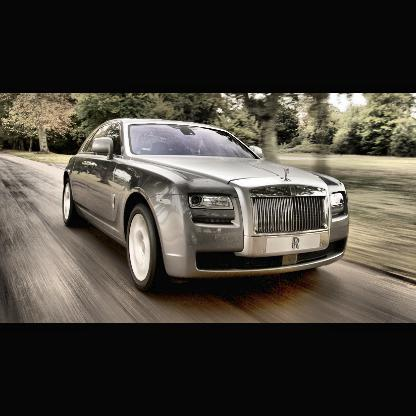Rolls-Royce Ghost Sedan 2012: (62, 117, 352, 295)
